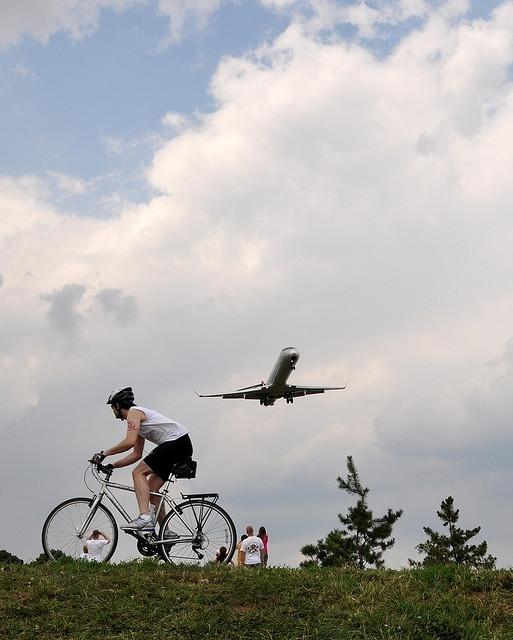bicycle: (44, 456, 240, 576)
